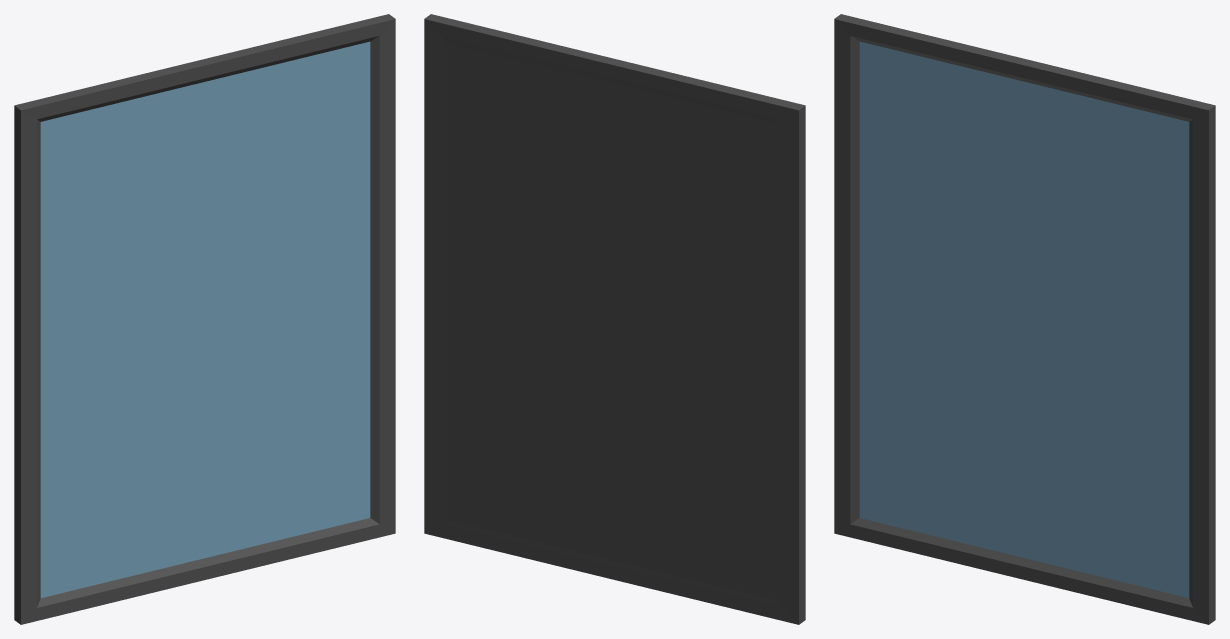
The model's file is Window.fbx.
3 renders of one model, left to right at view 1: azimuth 30°, elevation 25°; view 2: azimuth 150°, elevation 25°; view 3: azimuth 330°, elevation 25°, orthographic.
Visible parts, largest first — view 1: Window_1; view 2: Window_1; view 3: Window_1.
Boxes of the visible parts, <box> form: Window_1: <box>14,14,395,624</box>; Window_1: <box>424,14,805,624</box>; Window_1: <box>834,14,1215,624</box>.
Size of the model in its own units: 146 by 192 by 4.61.
